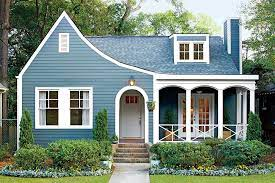Tin-shade House: (10, 12, 263, 163)
